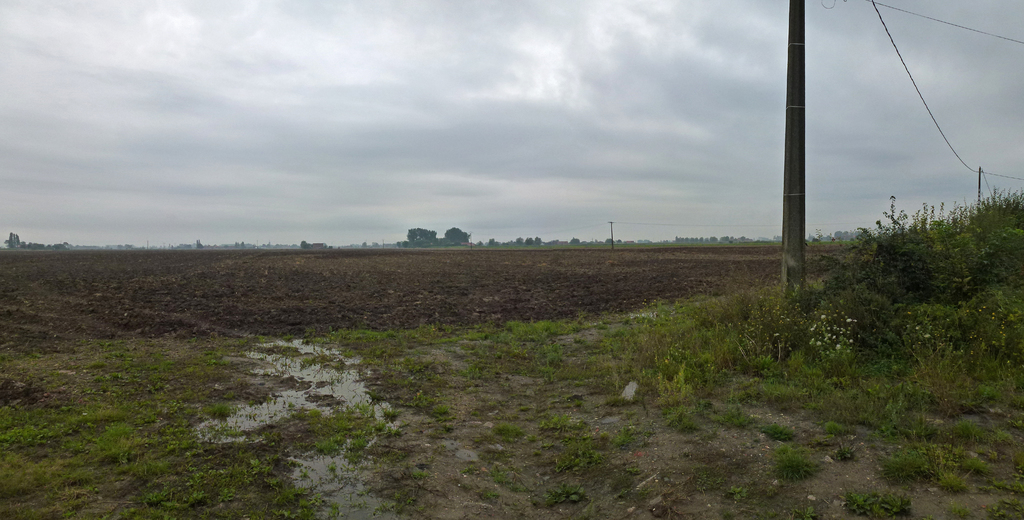Tree: (442, 223, 468, 245), (407, 225, 433, 238), (513, 236, 526, 243), (527, 234, 535, 245), (487, 235, 494, 246), (535, 235, 540, 245)
